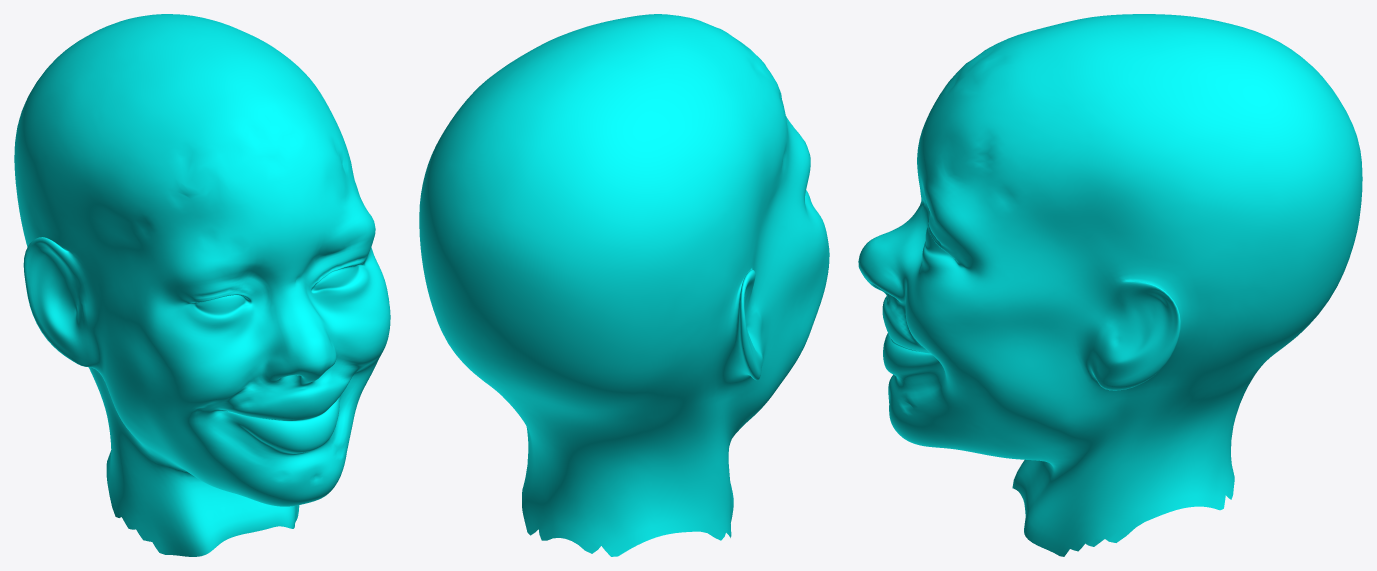
The model's file is head.glb.
3 renders of one model, left to right at view 1: azimuth 30°, elevation 25°; view 2: azimuth 150°, elevation 25°; view 3: azimuth 270°, elevation 25°, orthographic. The views are drawn at different scales.
Parts seen in each view (by area): view 1: FaceBuilderHead.002; view 2: FaceBuilderHead.002; view 3: FaceBuilderHead.002.
Part boxes in pixels (bbox=[...]): FaceBuilderHead.002: bbox=[14, 14, 390, 556]; FaceBuilderHead.002: bbox=[419, 14, 829, 556]; FaceBuilderHead.002: bbox=[858, 14, 1362, 556].
Bounding box in the file's own units: 1.96 × 2.91 × 2.69.
